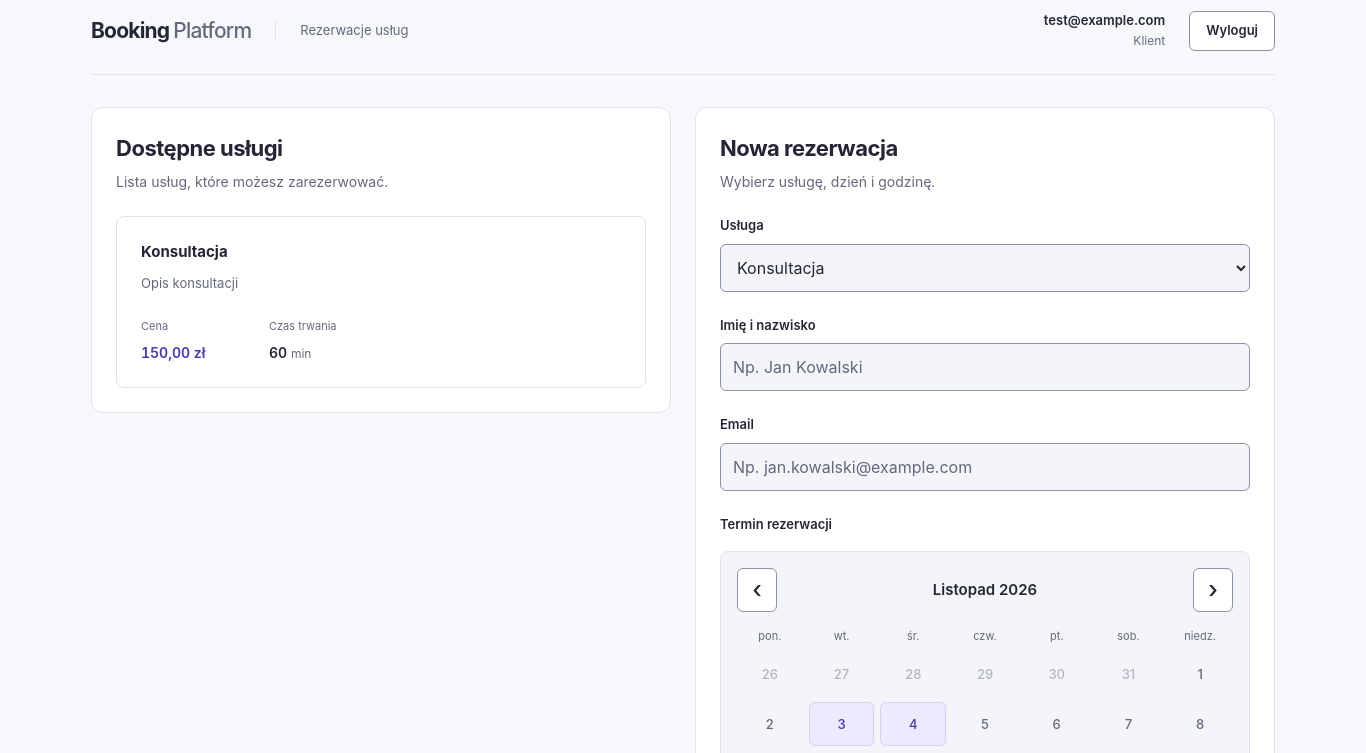
availability recovery › shows a genuine empty day only after a successful slots response
Check: the button "Wyloguj" is shown, box [1189,10,1275,50]
Click the button "3" at (842, 724), box [809,702,874,746]
(page scrolled)
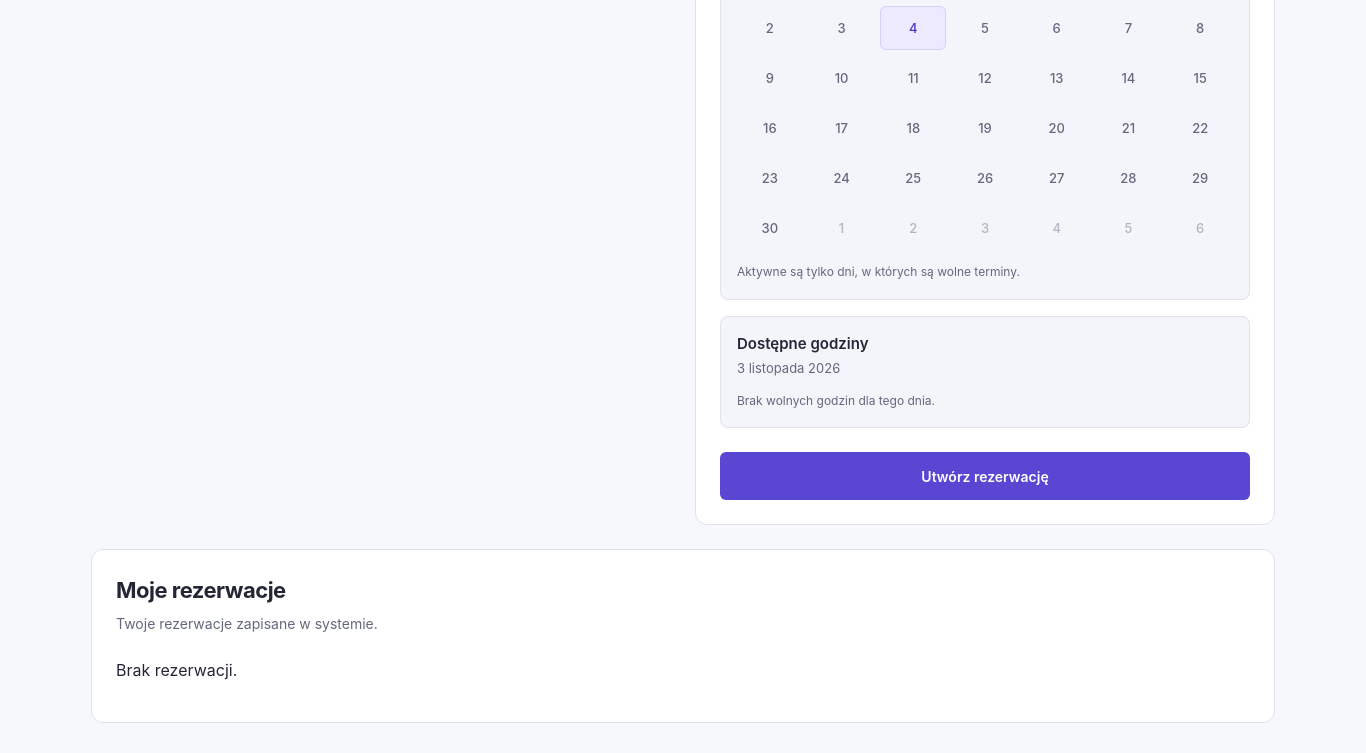
Check: the number of buttons with class "calendar-day--available" is 1, box [880,6,946,50]
Check: the text "Brak wolnych godzin dla tego dnia." is shown, box [737,393,935,408]
